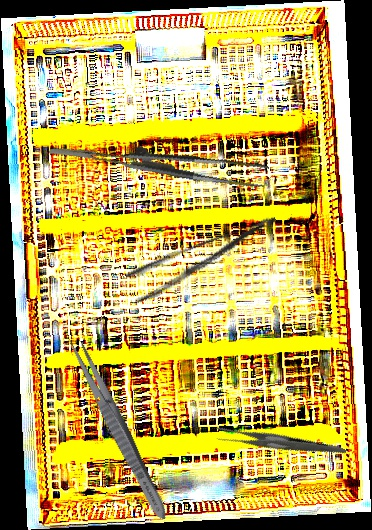Dressing Forceps: (63, 333, 173, 524), (123, 213, 287, 305), (212, 394, 347, 493)
Tissue Forceps: (48, 110, 270, 210)
